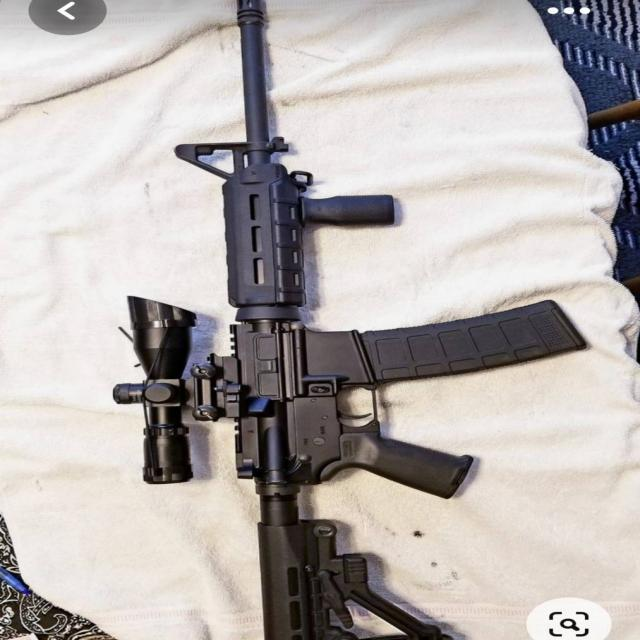m16: (168, 0, 606, 501)
